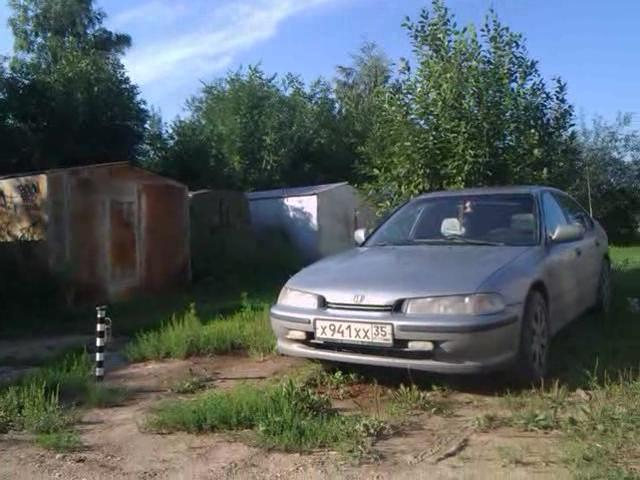car license plate: (311, 315, 394, 352)
